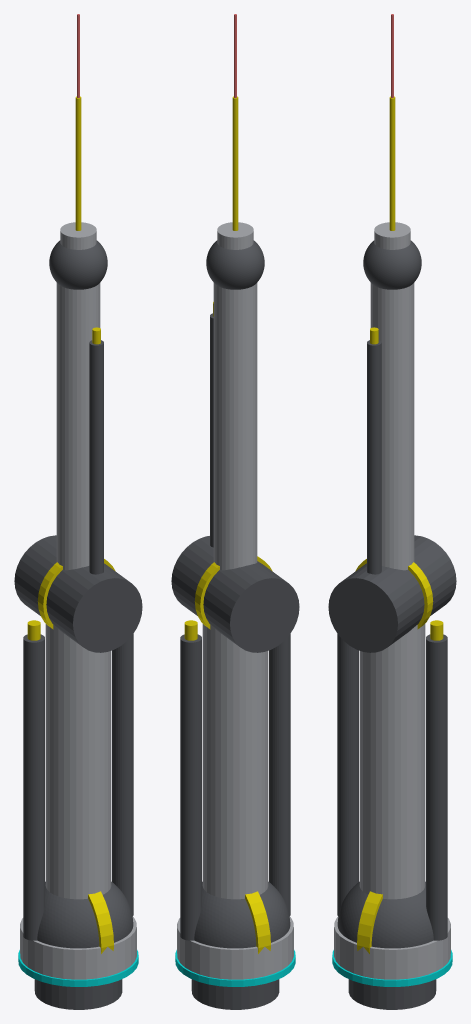
File: igor_arm.glb
3 views of the same model, side by side, from view 1: azimuth 30°, elevation 25°; view 2: azimuth 210°, elevation 25°; view 3: azimuth 330°, elevation 25° (orthographic).
Parts seen in each view (by area): view 1: upper_arm, lower_arm, elbow, base, shoulder, wrist, effector; view 2: upper_arm, lower_arm, elbow, base, shoulder, wrist, effector; view 3: upper_arm, lower_arm, elbow, base, shoulder, wrist, effector.
Boxes of the visible parts, left/top/right/bottom form: upper_arm: left=23, top=620, right=133, bottom=940; lower_arm: left=56, top=283, right=103, bottom=574; elbow: left=14, top=535, right=142, bottom=652; base: left=18, top=916, right=138, bottom=1009; shoulder: left=37, top=881, right=133, bottom=953; wrist: left=49, top=240, right=107, bottom=289; effector: left=60, top=14, right=96, bottom=249; upper_arm: left=180, top=620, right=290, bottom=940; lower_arm: left=210, top=283, right=257, bottom=570; elbow: left=171, top=536, right=299, bottom=652; base: left=175, top=916, right=295, bottom=1009; shoulder: left=194, top=881, right=290, bottom=953; wrist: left=206, top=240, right=264, bottom=289; effector: left=217, top=14, right=253, bottom=249; upper_arm: left=337, top=620, right=447, bottom=940; lower_arm: left=367, top=283, right=414, bottom=574; elbow: left=328, top=535, right=456, bottom=652; base: left=332, top=916, right=452, bottom=1009; shoulder: left=337, top=881, right=433, bottom=953; wrist: left=363, top=240, right=421, bottom=289; effector: left=374, top=14, right=410, bottom=249.
Bounding box in the file's own units: 3.4 × 29.5 × 3.3.
